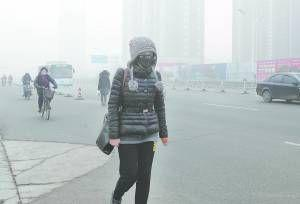bicycle: (37, 84, 57, 120)
bus: (37, 62, 75, 95)
car: (254, 73, 300, 103)
motorbike: (21, 81, 34, 100), (1, 79, 6, 87), (8, 80, 13, 86)
person: (107, 36, 169, 204), (33, 66, 58, 113), (96, 67, 111, 105), (20, 72, 34, 97), (7, 74, 13, 85), (1, 73, 7, 84)
